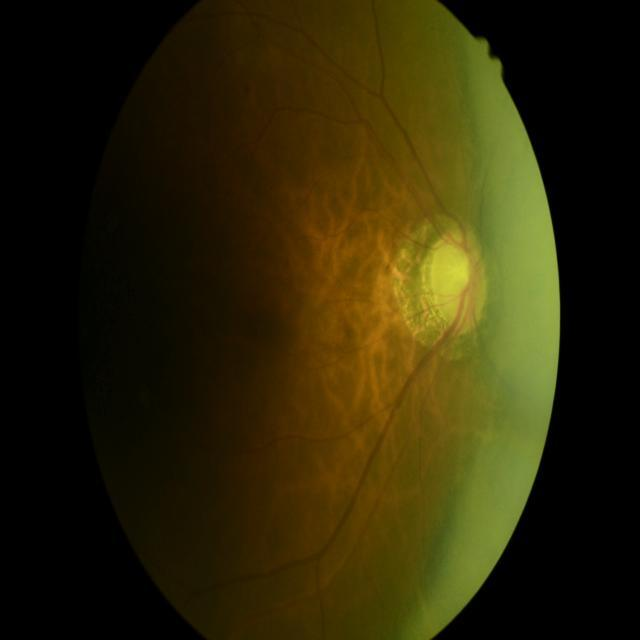cup: (438, 244, 470, 318)
disk: (430, 230, 487, 334)
